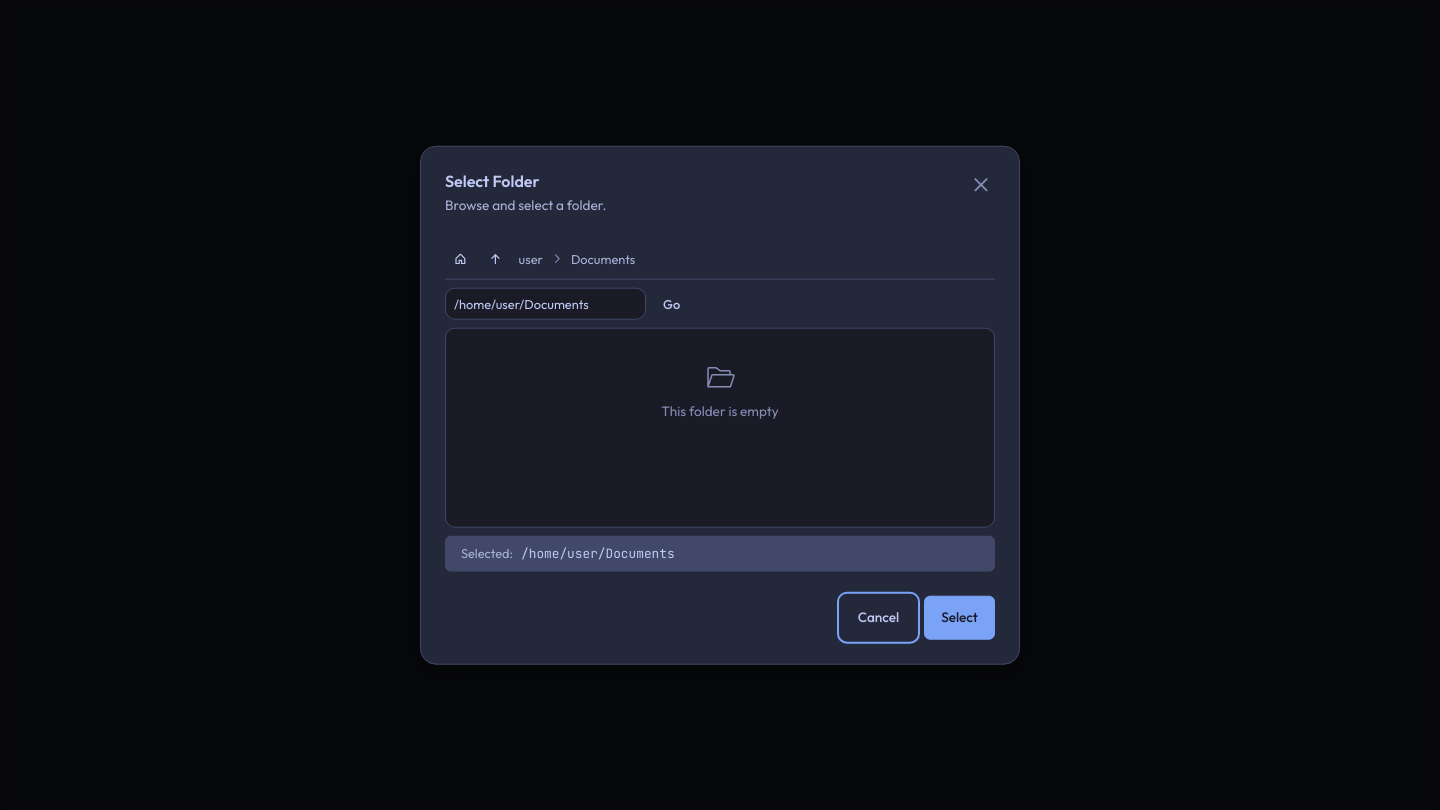
it: FileBrowser › uses the configured root as the navigation boundary
Click the button named "go to root" at point(460, 259), box [445,243,476,275]
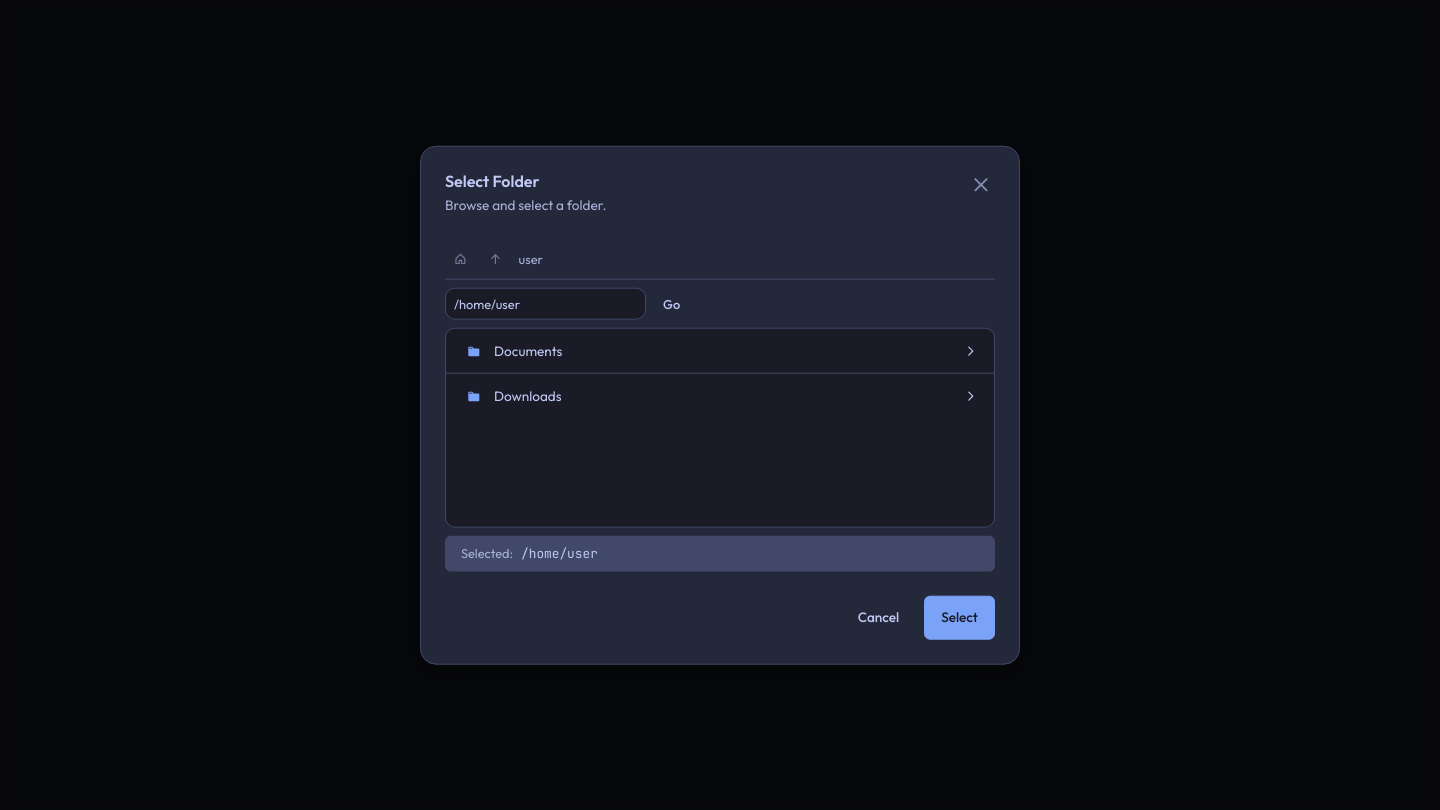
Expected: the button named "go to parent" is disabled, [480,243,511,275]
Expected: the field with placeholder "Enter path manually..." holds "/home/user", [446,290,645,318]
Expected: the button named "go to root" is disabled, [445,243,476,275]
